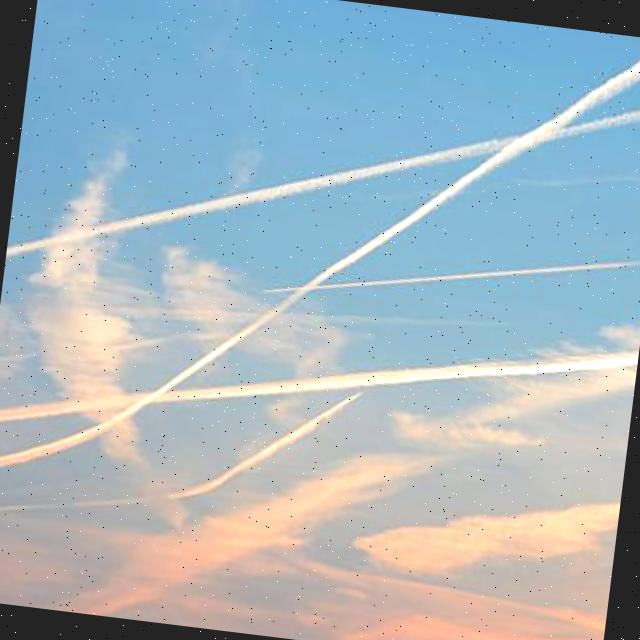Ct: (1, 1, 640, 523)
